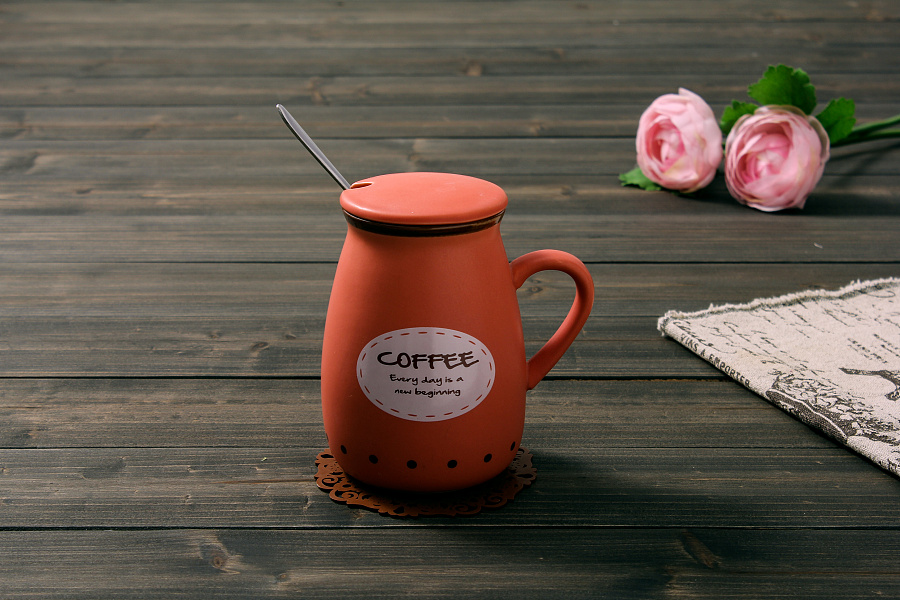cup: (318, 168, 598, 503)
